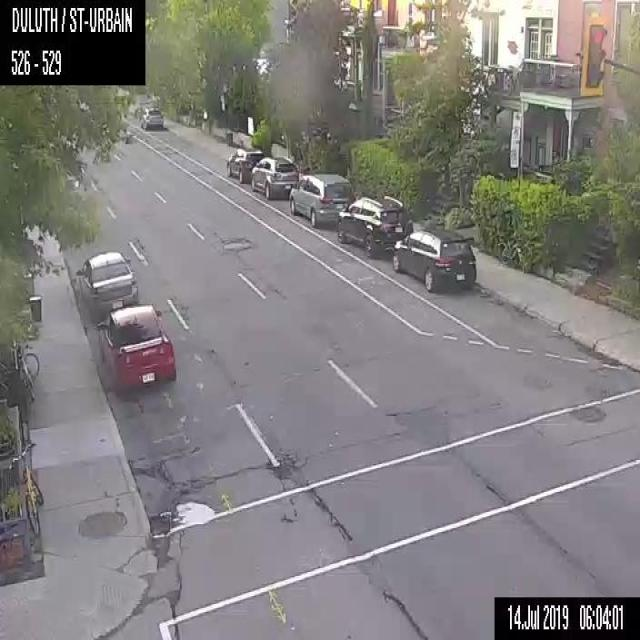vehicle: (96, 305, 176, 388), (393, 228, 476, 292), (336, 194, 412, 258), (76, 250, 138, 320), (288, 172, 354, 226), (250, 156, 299, 200), (225, 145, 264, 183), (139, 108, 164, 129)
